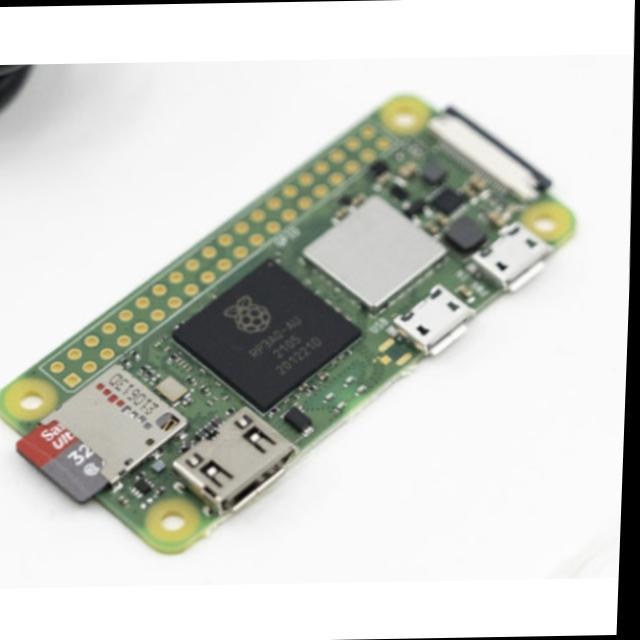Raspberry-Pi-Zero-2-W: (1, 97, 574, 552)
